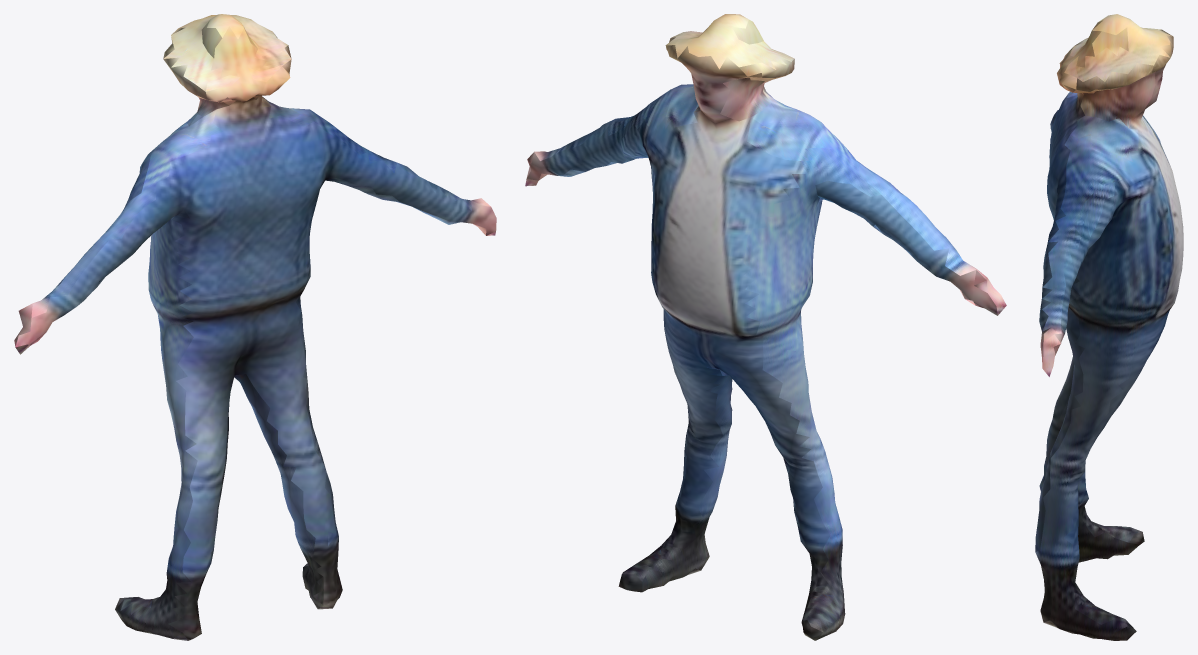
3 renders of one model, left to right at view 1: azimuth 30°, elevation 25°; view 2: azimuth 150°, elevation 25°; view 3: azimuth 270°, elevation 25°, orthographic. The views are drawn at different scales.
Parts seen in each view (by area): view 1: world; view 2: world; view 3: world.
Boxes of the visible parts, x1,y1,x2,y2 form: world: (14,14,496,640); world: (525,14,1006,640); world: (1035,14,1183,640).
Size of the model in its own units: 0.8627 by 1.02 by 0.2367.
Materials: 1 (1 with a texture image).
